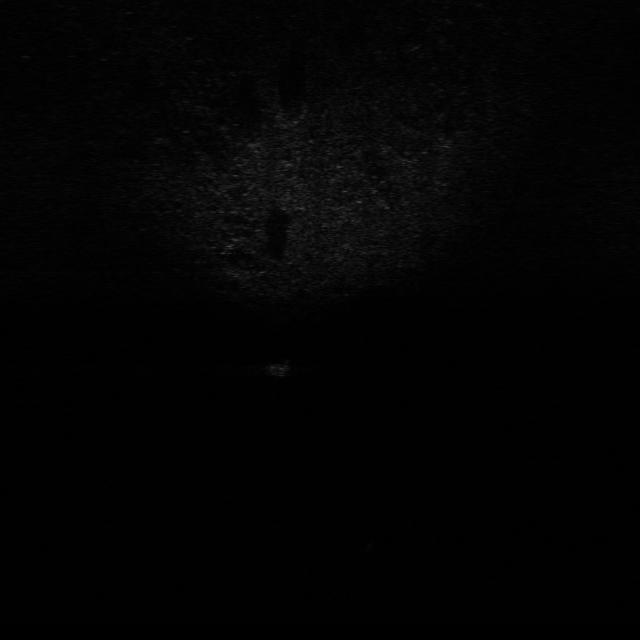cube: (266, 355, 298, 379)
